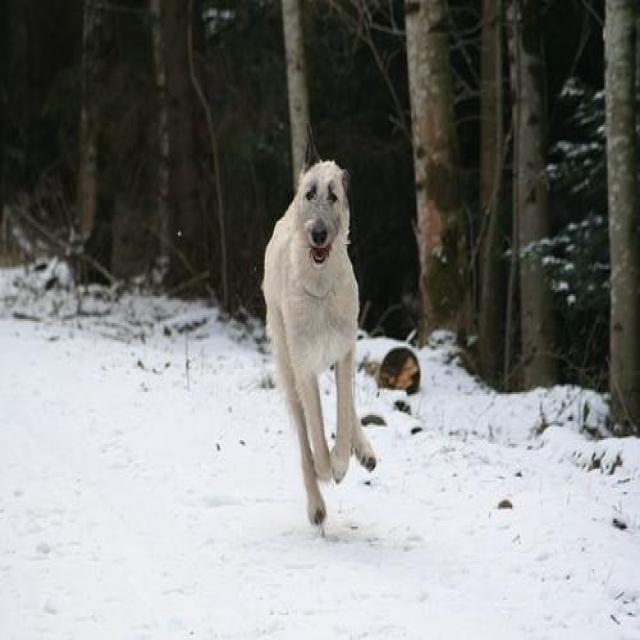irish_wolfhound: (261, 156, 378, 526)
